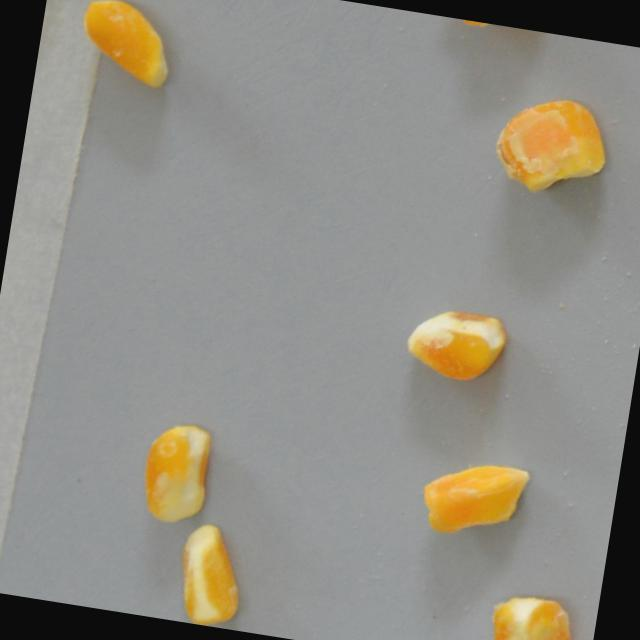estandar: (73, 0, 179, 90)
no_canjicado: (401, 302, 512, 388)
pelicula: (488, 88, 615, 205), (416, 453, 533, 545), (171, 521, 251, 631), (136, 417, 216, 527), (488, 591, 577, 640)
